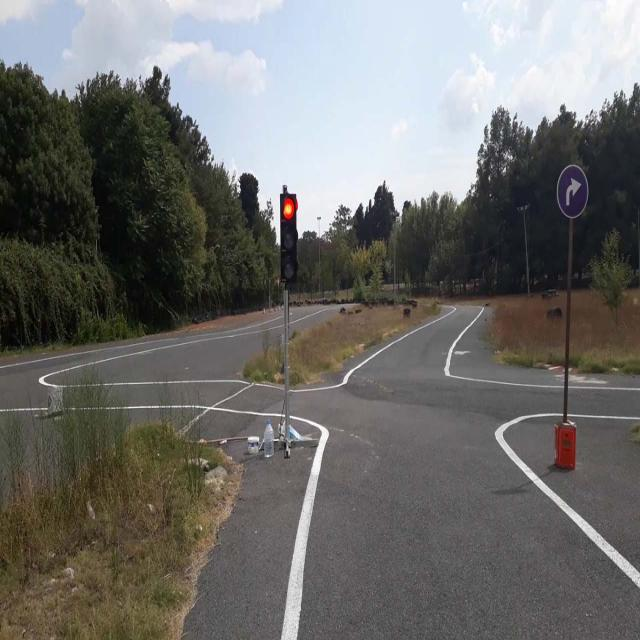kirmizi: (280, 195, 298, 282)
sag: (558, 165, 588, 216)
